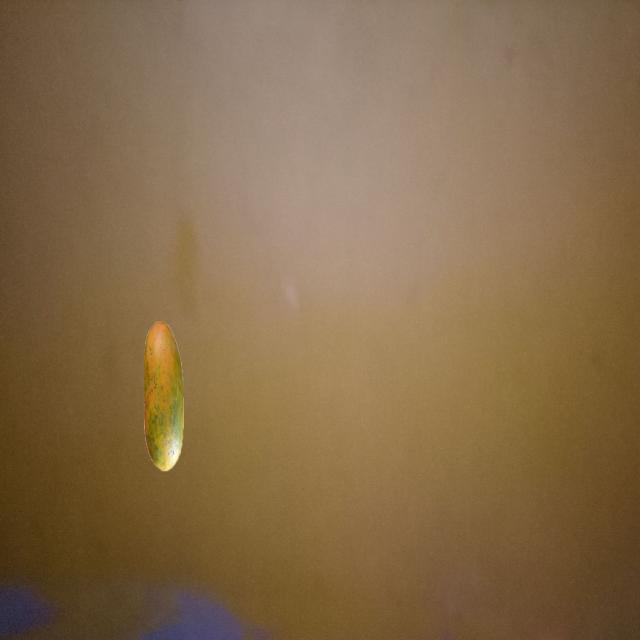Pepaya rippen: (137, 315, 191, 474)
